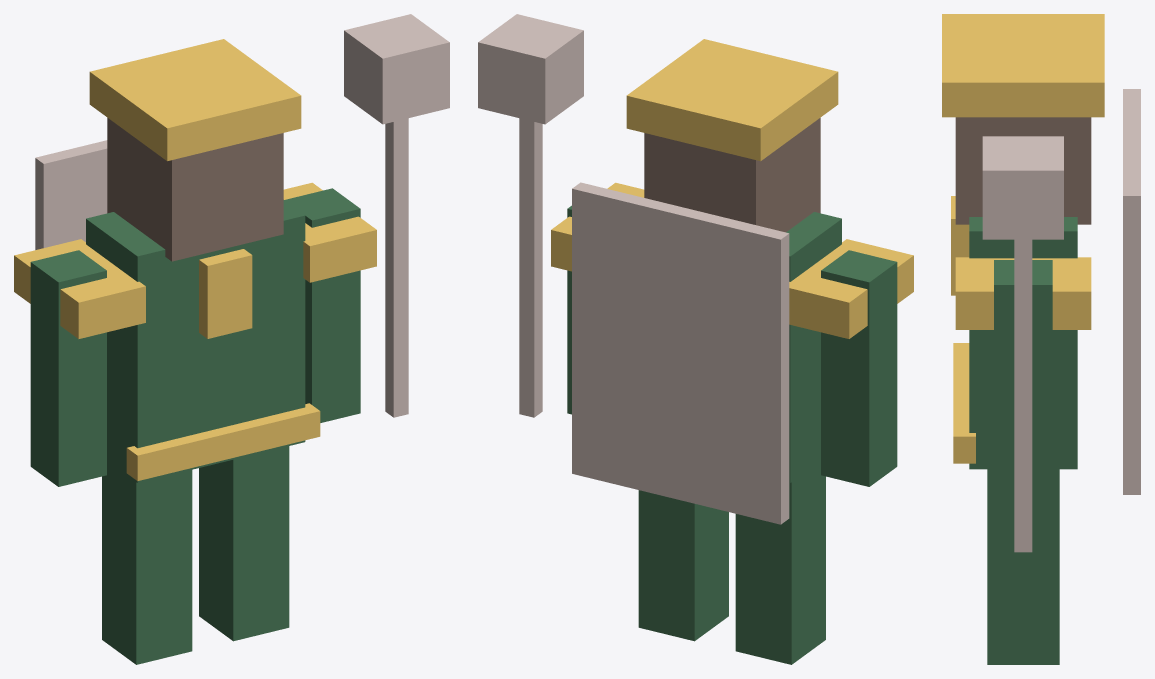
File: 06_lyric_cinderholt_archivist_near_hatchling.glb
The picture shows the model from 3 angles, left to right: view 1: azimuth 30°, elevation 25°; view 2: azimuth 150°, elevation 25°; view 3: azimuth 270°, elevation 25°; orthographic projection. The views are drawn at different scales.
Parts seen in each view (by area): view 1: Lyric Cinderholt, Archivist near Hatchling; view 2: Lyric Cinderholt, Archivist near Hatchling; view 3: Lyric Cinderholt, Archivist near Hatchling.
Part boxes in pixels (x1,y1,x2,y2): Lyric Cinderholt, Archivist near Hatchling: (14, 14, 449, 664); Lyric Cinderholt, Archivist near Hatchling: (478, 14, 913, 664); Lyric Cinderholt, Archivist near Hatchling: (942, 14, 1140, 664).
Size of the model in its own units: 1.13 by 1.54 by 0.4806.
